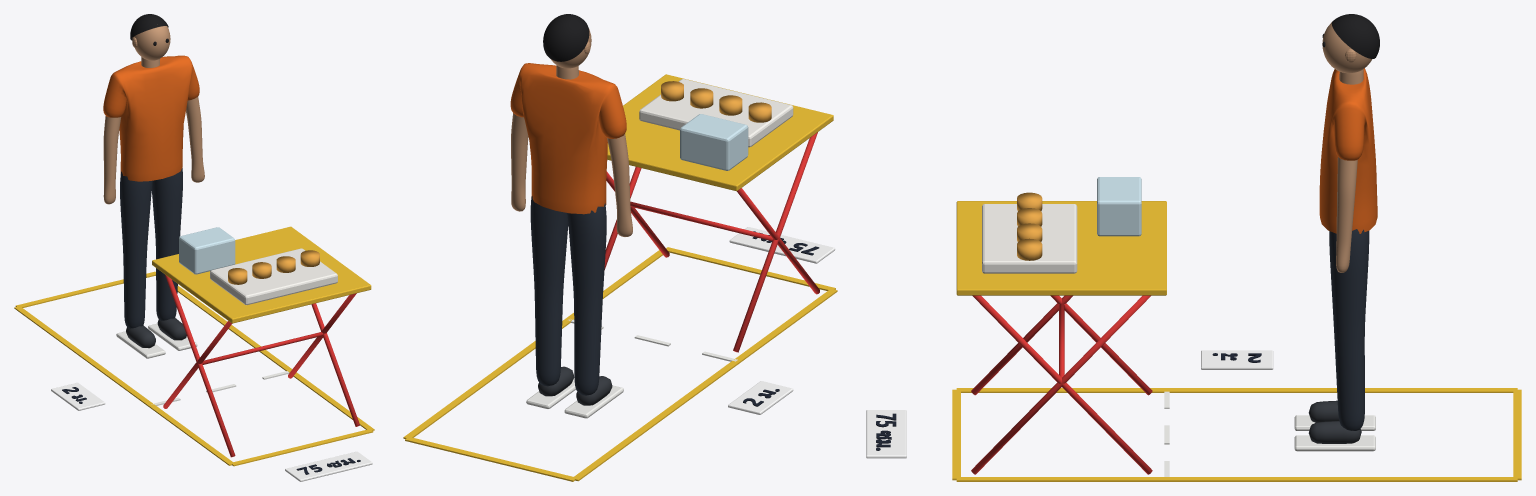
File: lot-food-1.glb
The picture shows the model from 3 angles, left to right: view 1: azimuth 30°, elevation 25°; view 2: azimuth 150°, elevation 25°; view 3: azimuth 270°, elevation 25°; orthographic projection. The views are drawn at different scales.
Visible parts, largest first — view 1: sk.002, Cube, sk, Cube.001, sk.001, Cube.002, Cube.004, Cube.005, sk.004, Cube.012, sk.006, Cylinder (+13 smaller); view 2: sk.002, Cube, sk, sk.001, Cube.001, Cube.002, Cube.004, Sphere.001, Cube.005, sk.004, Cylinder.001, sk.006 (+11 smaller); view 3: Cube, sk.002, sk.001, Cube.001, Cube.005, Cube.002, Cube.004, sk.006, Cube.012, Cylinder.003, Cylinder.002, Sphere.001 (+8 smaller).
Boxes of the visible parts, bbox=[...] form: sk.002: bbox=[103, 55, 199, 181]; Cube: bbox=[152, 226, 371, 323]; sk: bbox=[120, 171, 152, 328]; Cube.001: bbox=[210, 248, 337, 305]; sk.001: bbox=[151, 168, 182, 320]; Cube.002: bbox=[179, 227, 235, 274]; Cube.004: bbox=[14, 307, 234, 465]; Cube.005: bbox=[154, 273, 374, 430]; sk.004: bbox=[103, 116, 121, 204]; Cube.012: bbox=[285, 451, 372, 481]; sk.006: bbox=[186, 96, 204, 182]; Cylinder: bbox=[165, 274, 235, 457]; sk.002: bbox=[510, 63, 626, 214]; Cube: bbox=[607, 74, 833, 191]; sk: bbox=[567, 203, 606, 395]; sk.001: bbox=[530, 196, 568, 386]; Cube.001: bbox=[639, 79, 793, 147]; Cube.002: bbox=[680, 114, 748, 170]; Cube.004: bbox=[572, 289, 837, 481]; Sphere.001: bbox=[543, 14, 589, 61]; Cube.005: bbox=[403, 250, 662, 438]; sk.004: bbox=[607, 134, 632, 236]; Cylinder.001: bbox=[733, 132, 817, 352]; sk.006: bbox=[511, 113, 528, 211]; Cube: bbox=[956, 201, 1166, 295]; sk.002: bbox=[1319, 68, 1377, 233]; sk.001: bbox=[1329, 229, 1369, 430]; Cube.001: bbox=[982, 204, 1077, 273]; Cube.005: bbox=[956, 477, 1517, 481]; Cube.002: bbox=[1097, 177, 1141, 236]; Cube.004: bbox=[956, 388, 1517, 392]; sk.006: bbox=[1336, 157, 1357, 272]; Cube.012: bbox=[866, 410, 906, 458]; Cylinder.003: bbox=[972, 295, 1152, 474]; Cylinder.002: bbox=[971, 295, 1150, 474]; Sphere.001: bbox=[1331, 14, 1379, 58].
Size of the model in its own units: 1.09 by 1.65 by 2.34.
